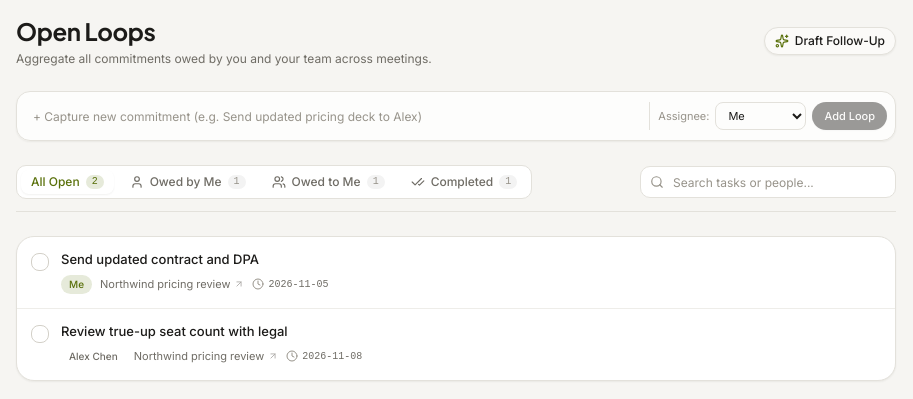
Scenario: ActionItemsPage & Open Loops Inbox › renders open loops categorized by owed-by-me and owed-to-me
Expected: the heading "Open Loops" is shown, [16,16,156,46]
Expected: the text "Send updated contract and DPA" is shown, [61,251,259,267]
// Switch to Owed to Me tab (should only show Alex Chen's task)
Click the text "Owed to Me" at (326, 182), box [292,174,361,190]
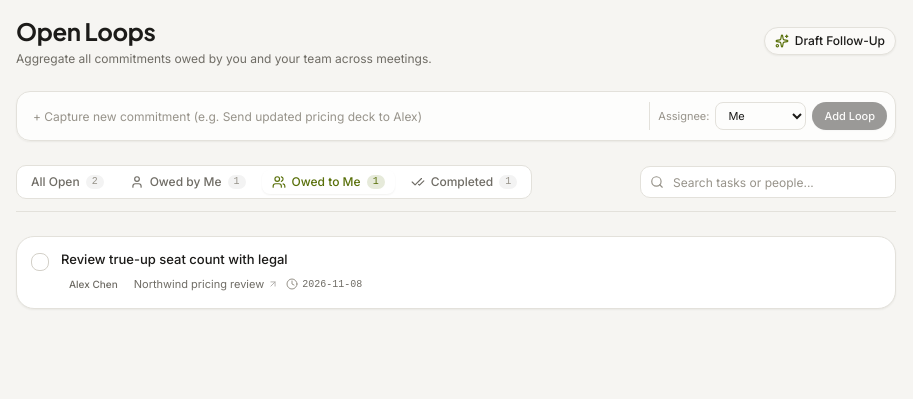
Expected: the text "Review true-up seat count with legal" is shown, [61,251,288,267]
Expected: the text "Send updated contract and DPA" is gone
// Switch to Completed tab
Click the text "Completed" at (462, 182), box [431,174,493,190]
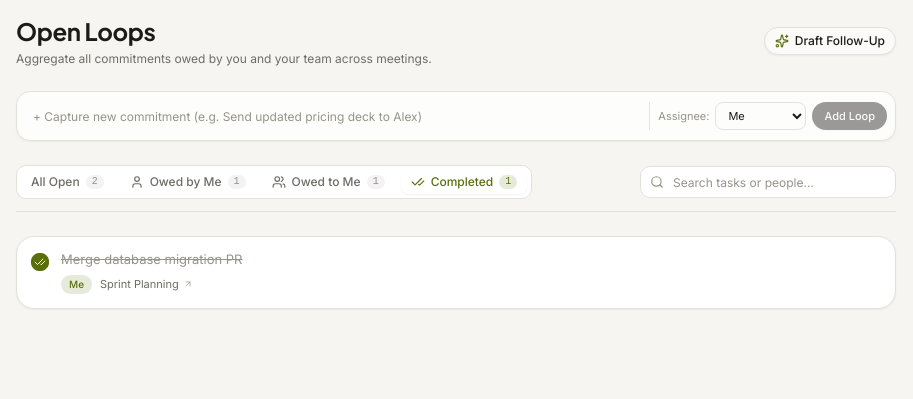
Expected: the text "Merge database migration PR" is shown, [61,251,242,267]
